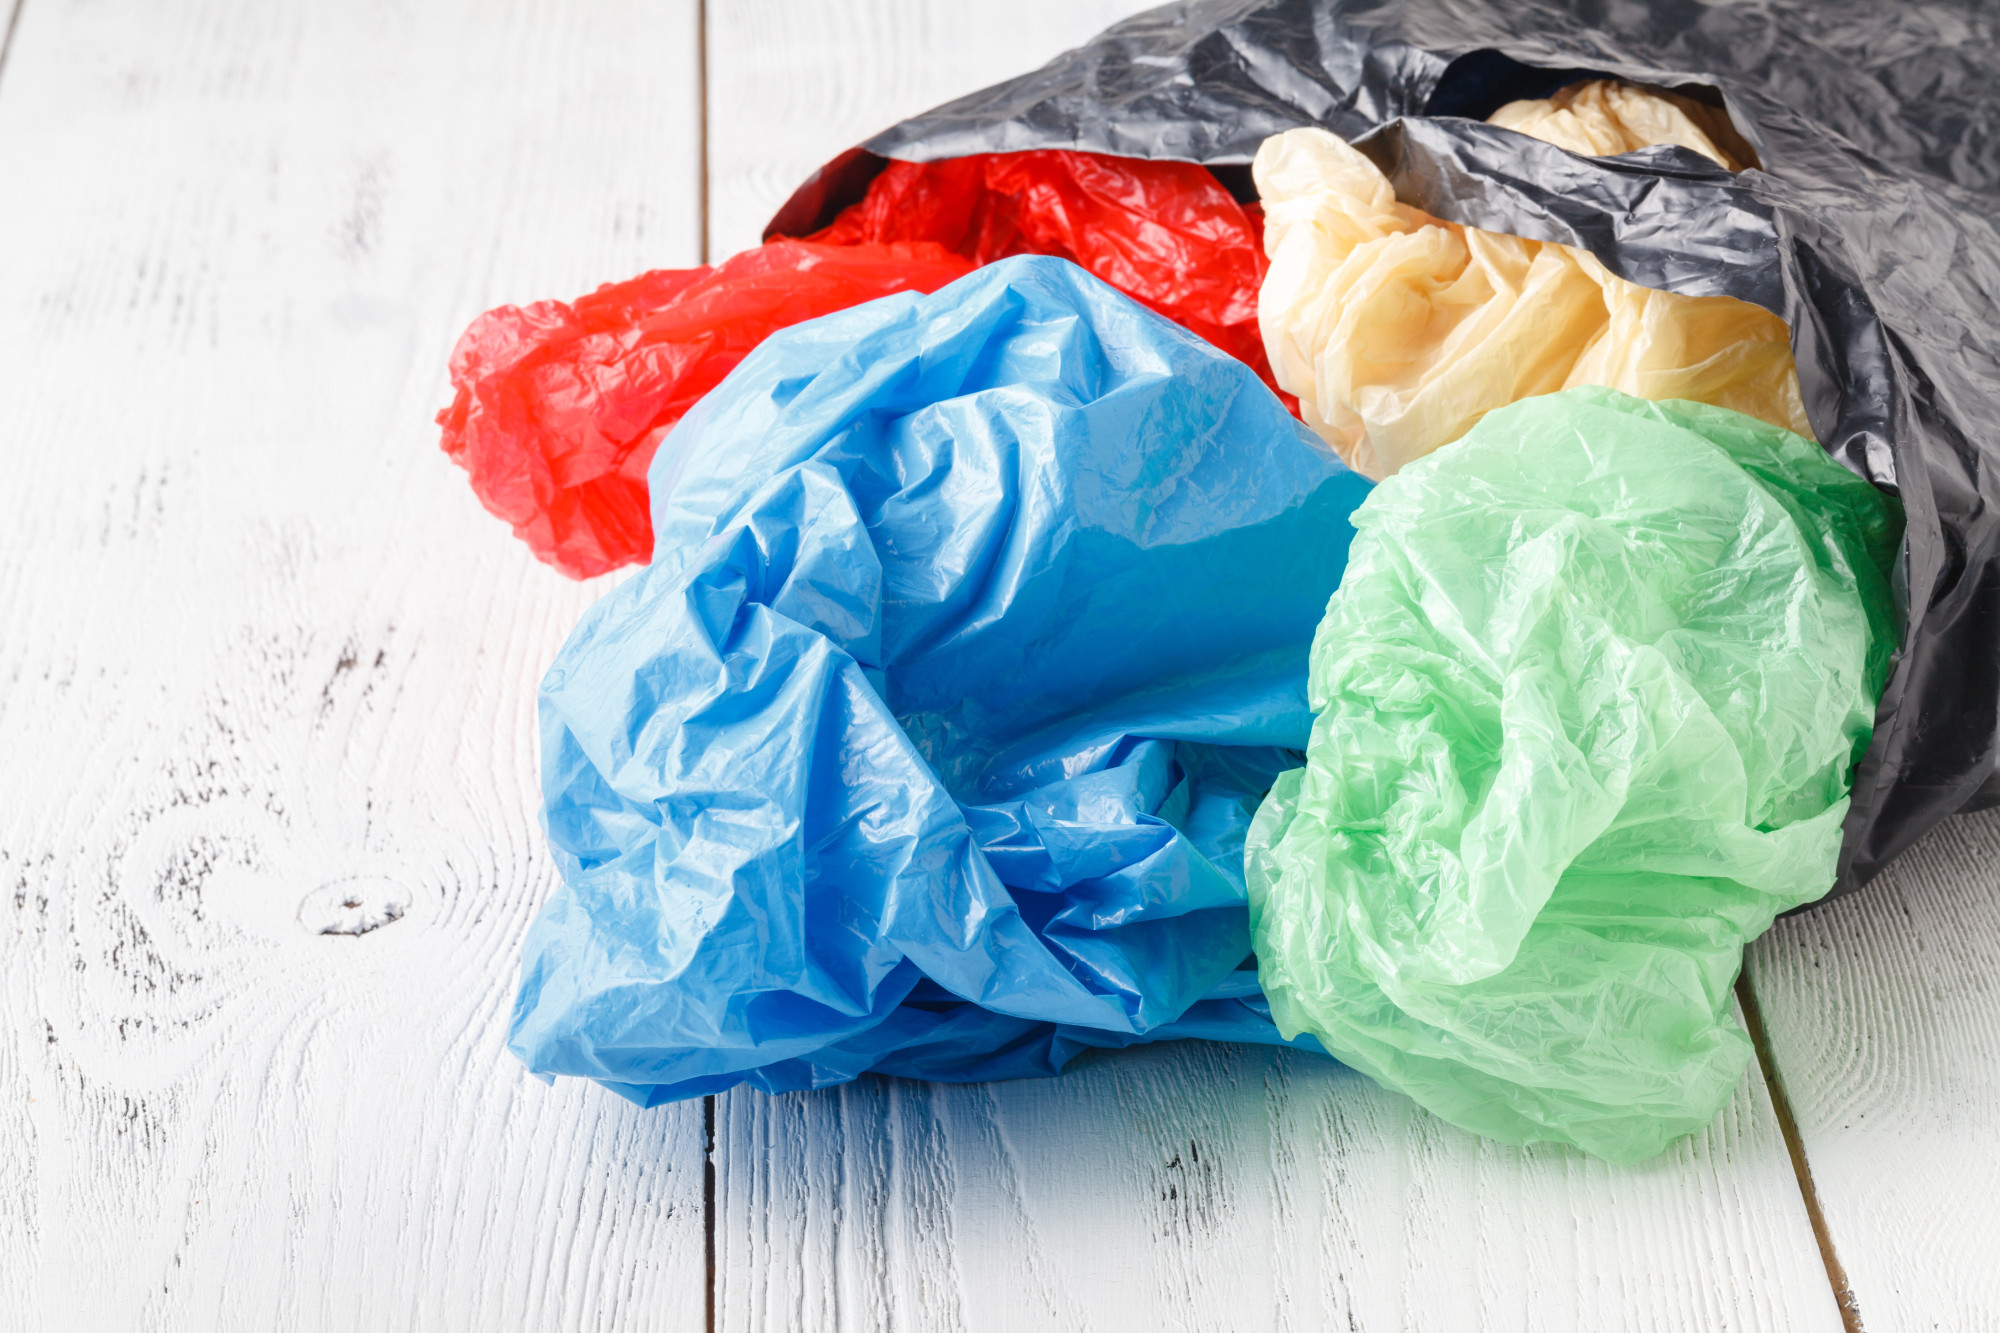plastic_bagwdw: (312, 1, 1996, 1269), (399, 283, 1532, 1242), (1193, 329, 1970, 1297), (370, 83, 1372, 742), (1033, 6, 1946, 585)
